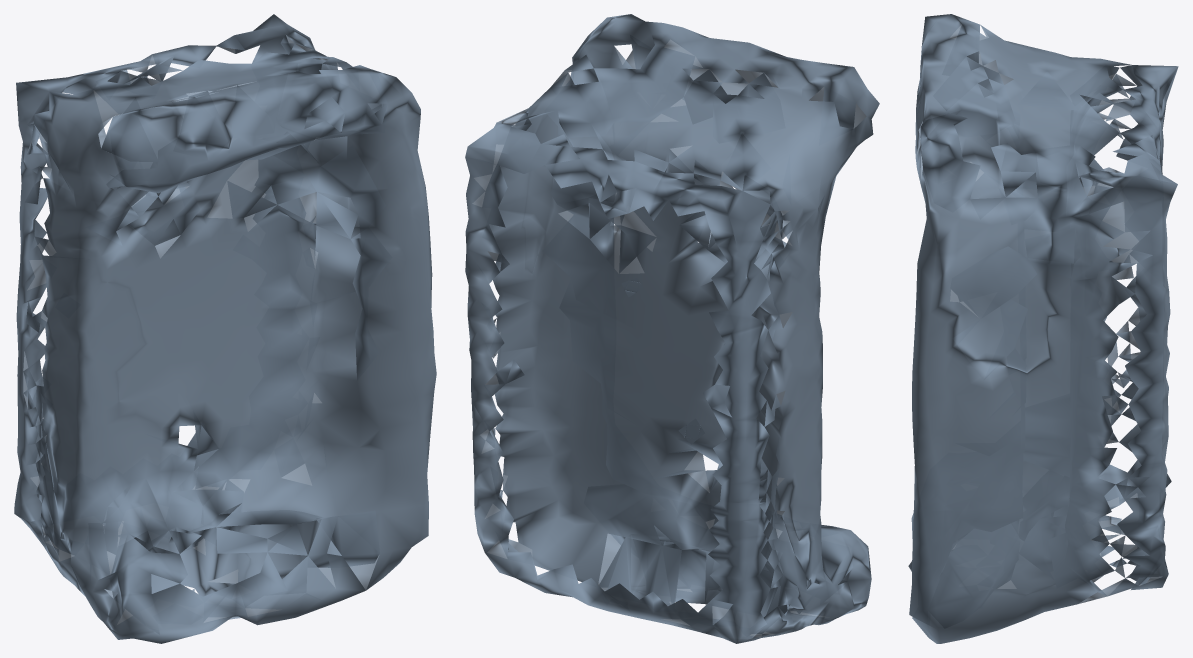
Rendered from sofa_0663_recon.obj.
3 views of the same model, side by side, from view 1: azimuth 30°, elevation 25°; view 2: azimuth 150°, elevation 25°; view 3: azimuth 270°, elevation 25° (orthographic). The views are drawn at different scales.
Size of the model in its own units: 1 by 1.63 by 0.7641.
